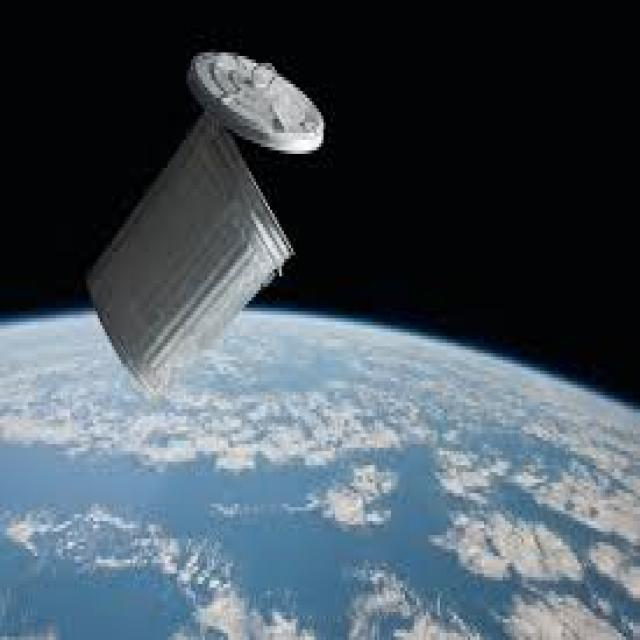medium_debris: (68, 44, 334, 401)
